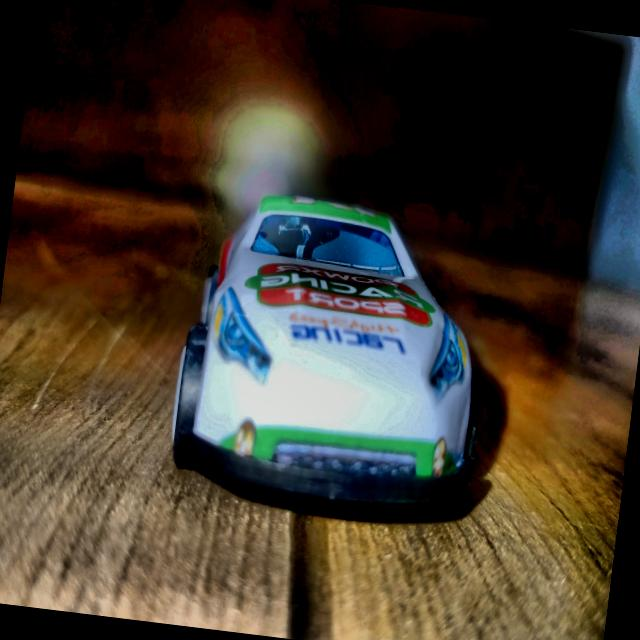Car: (165, 185, 502, 519)
